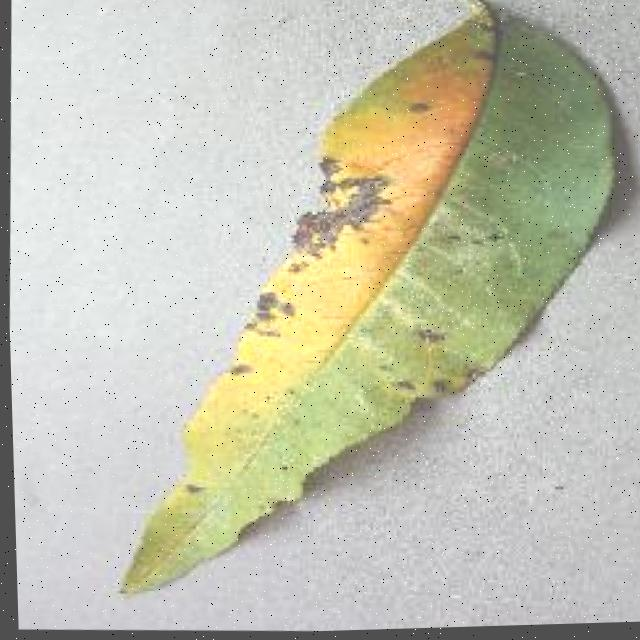Bacterial_spot: (278, 140, 415, 273), (431, 204, 535, 291), (241, 282, 307, 340), (407, 311, 462, 358), (176, 466, 221, 516), (385, 367, 436, 404), (230, 351, 266, 395), (400, 91, 444, 123)
